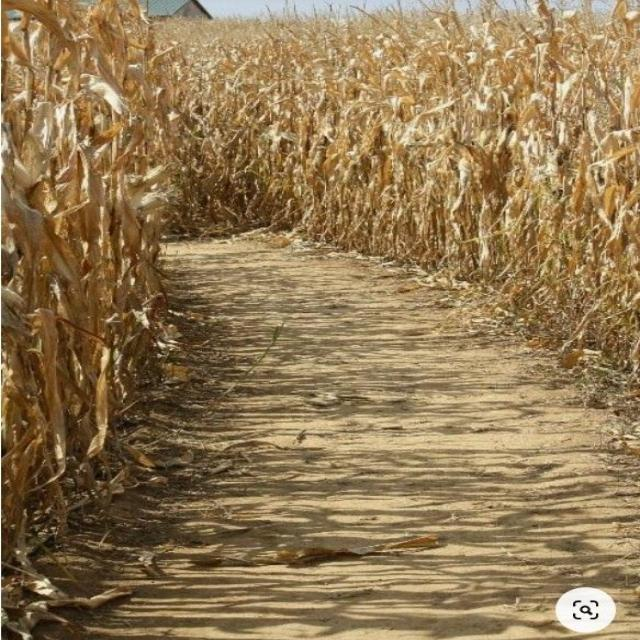row: (4, 228, 640, 640)
